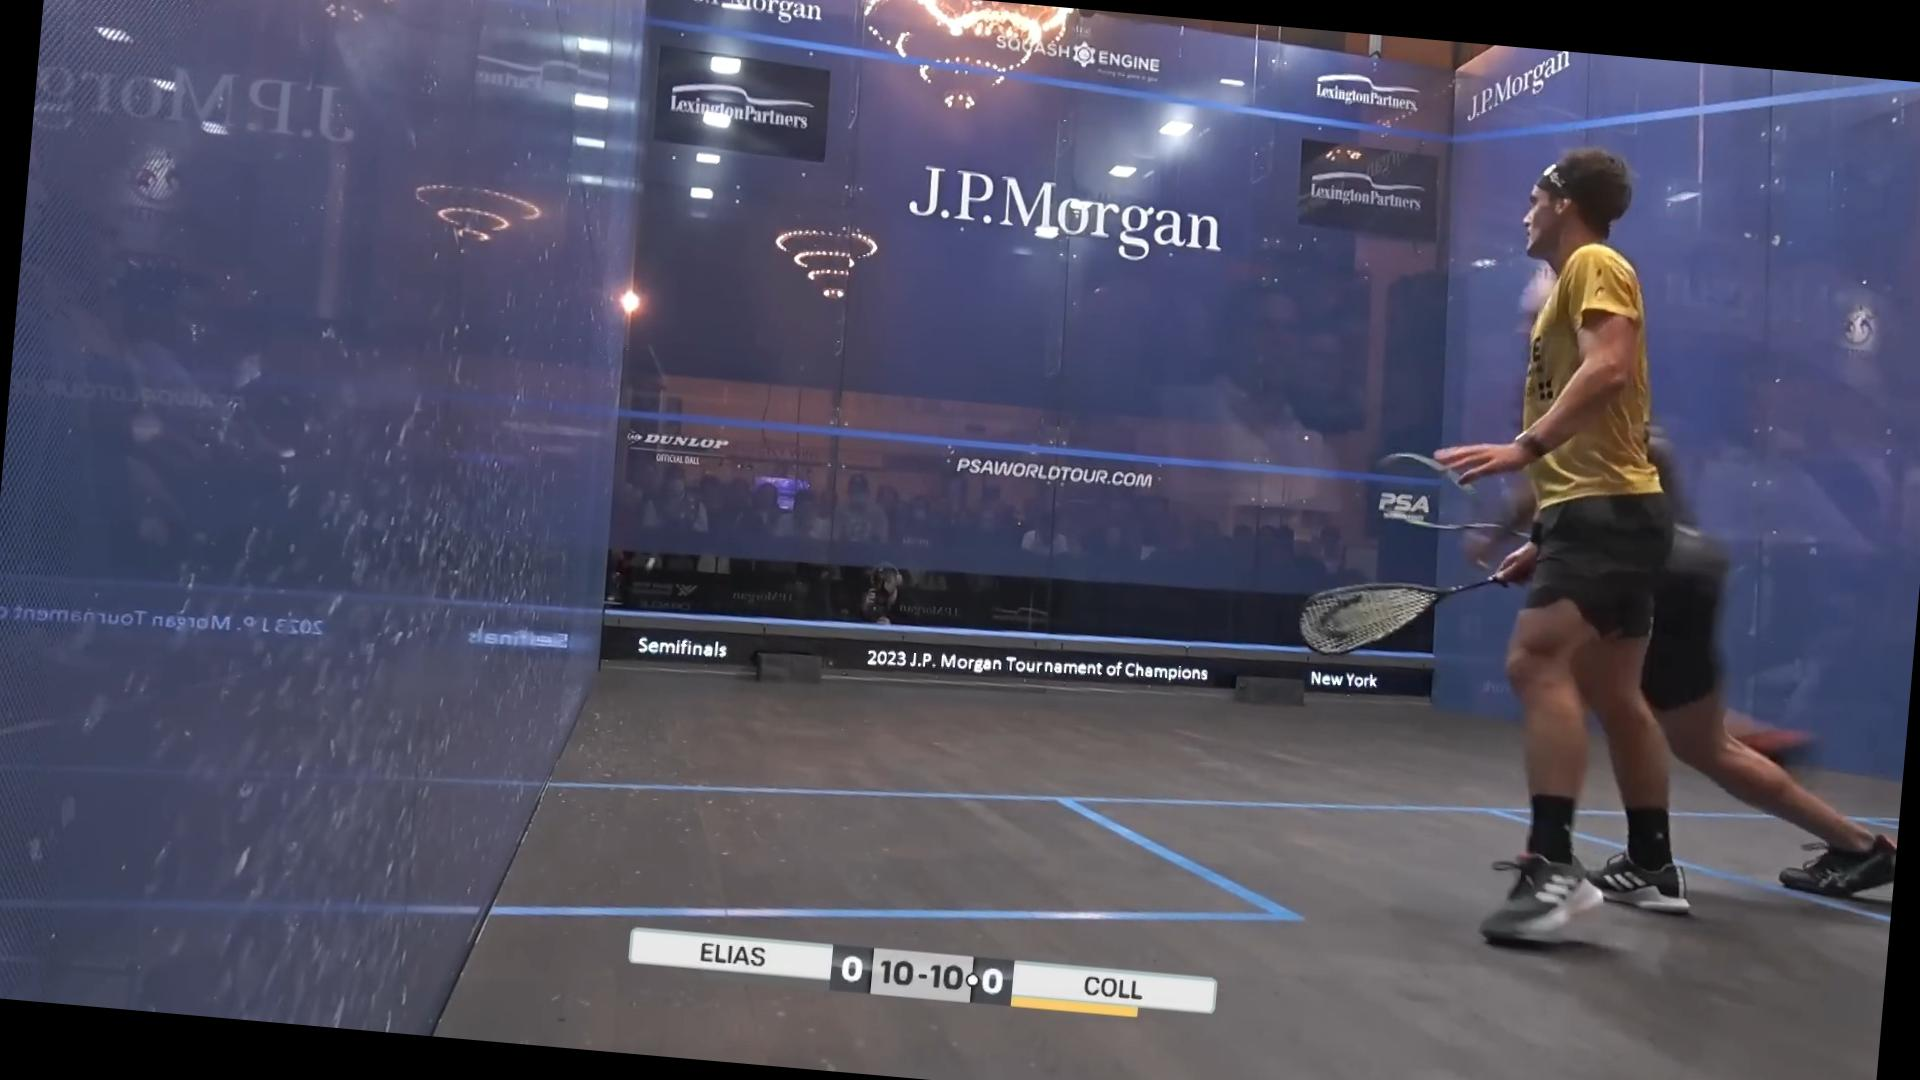Racket: (1288, 547, 1501, 679), (1357, 439, 1509, 537)
